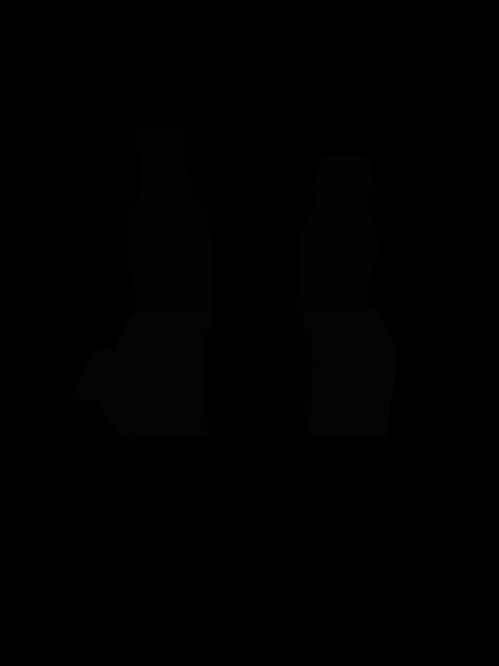can: (200, 292, 314, 510)
carton: (67, 307, 402, 445)
milk_bottle: (292, 152, 381, 315)
water_bottle: (122, 120, 216, 316)
